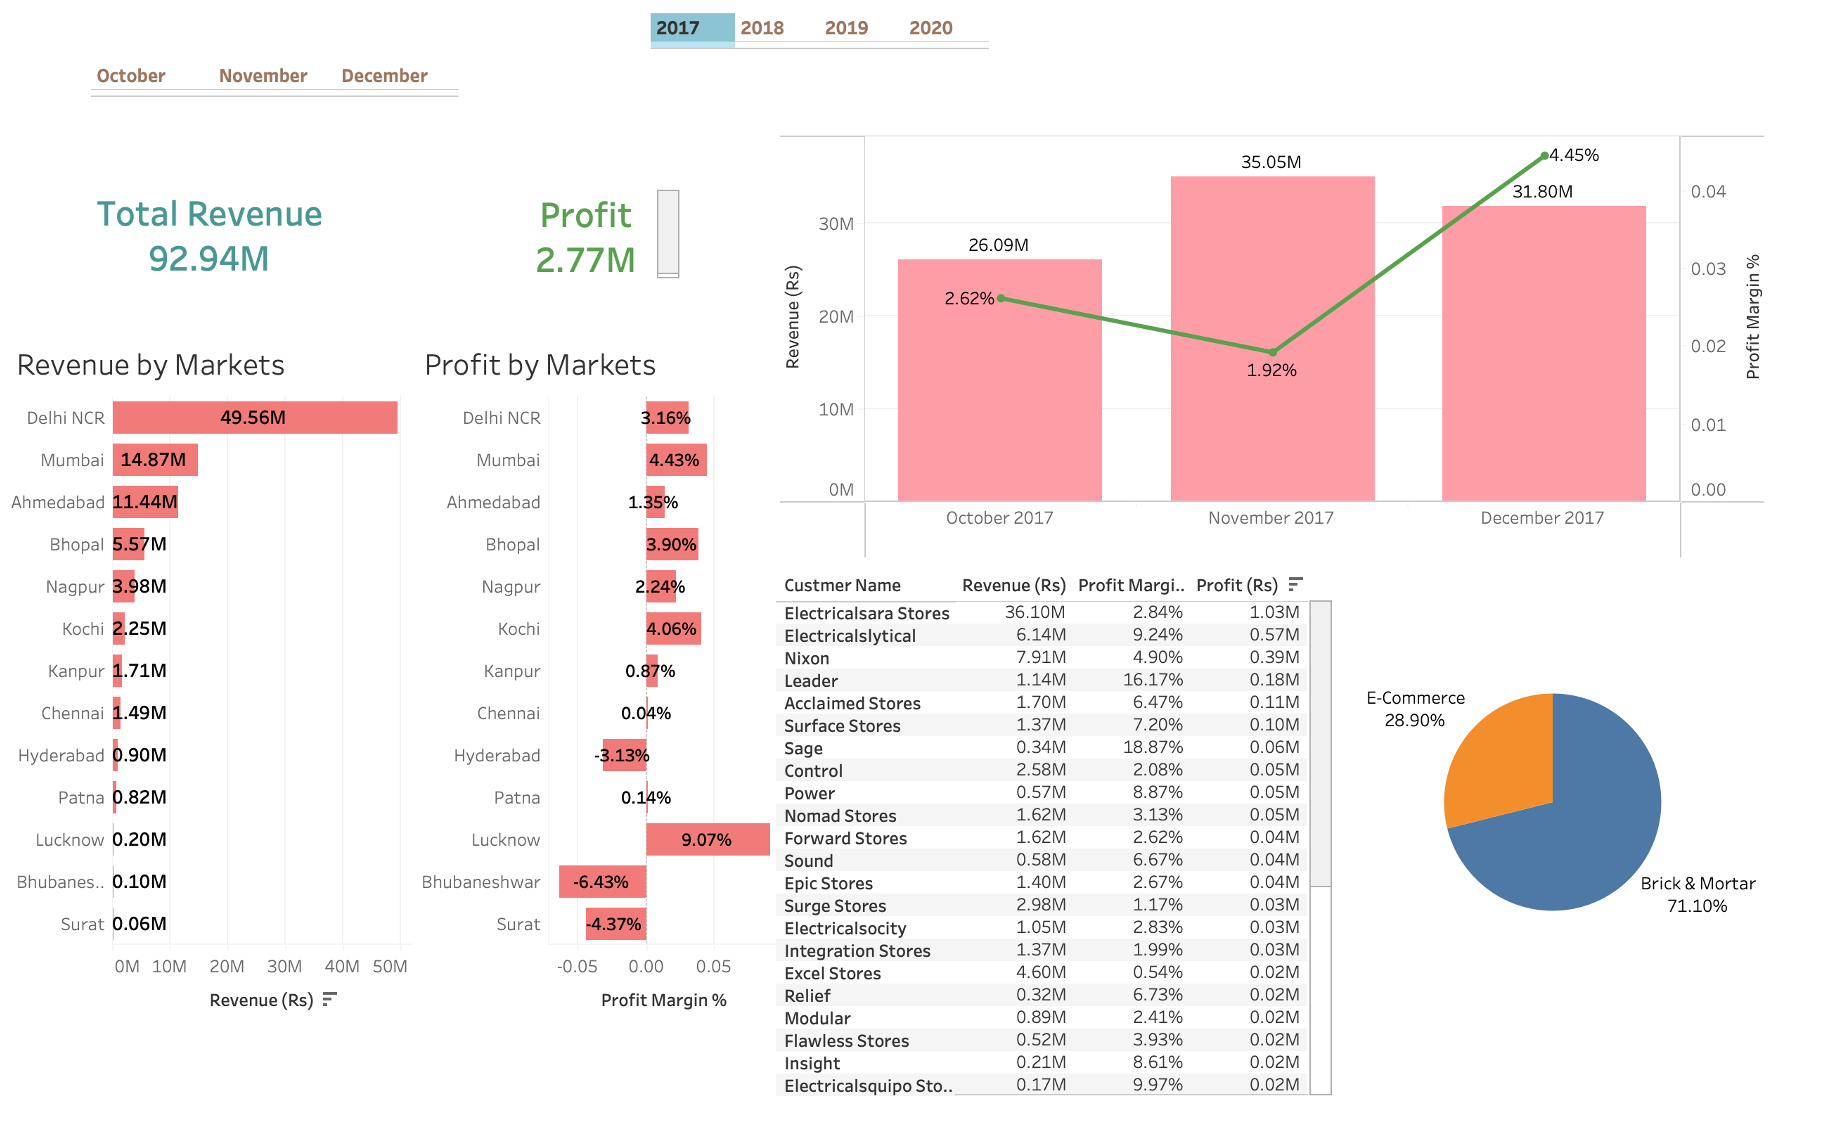

The page's visual inventory and layout, read from the dashboard file:
{"tool":"tableau","page":{"name":"Profit Analysis Dashboard ","canvas":[1300,800],"ordinal":0},"visuals":[{"type":"worksheet","title":"Year","mark":"Automatic","cols":["cy_date"],"box":[461.5,8,322.4,36]},{"type":"worksheet","title":"Month","mark":"Automatic","cols":["cy_date"],"box":[64,42,1076,31]},{"type":"worksheet","title":"Profit Trend","mark":"Bar","rows":["Calculation_952511371062009859","Calculation_1131318350083751936"],"cols":["cy_date"],"box":[554,95,701,301]},{"type":"worksheet","title":"Total Revenue","mark":"Automatic","box":[59,133,196,77]},{"type":"worksheet","title":"Profit","mark":"Automatic","box":[367,134,117,62]},{"type":"worksheet","title":"Revenue by Markets","mark":"Automatic","rows":["markets_name"],"cols":["Calculation_952511371062009859"],"box":[7,237,285,540]},{"type":"worksheet","title":"Profit by Markets","mark":"Automatic","rows":["markets_name"],"cols":["Calculation_1131318350083751936"],"box":[297,237,257,533]},{"type":"worksheet","title":"Revenue by Customer Type","mark":"Pie","box":[949,401,309,343]},{"type":"worksheet","title":"Customer Table","mark":"Automatic","rows":["custmer_name"],"box":[551,402,396,376]}]}

Visuals, with their boxes in screenshot pixels (x1, y1, x2, y2), scaled from the page's 1300x800 canvas onto the 1829x1127 screenshot:
"Year" worksheet: 649 11 1103 62
"Month" worksheet: 90 59 1604 103
"Profit Trend" worksheet (Bar marks): 779 134 1766 558
"Total Revenue" worksheet: 83 187 359 296
"Profit" worksheet: 516 189 681 276
"Revenue by Markets" worksheet: 10 334 411 1095
"Profit by Markets" worksheet: 418 334 779 1085
"Revenue by Customer Type" worksheet (Pie marks): 1335 565 1770 1048
"Customer Table" worksheet: 775 566 1332 1096
